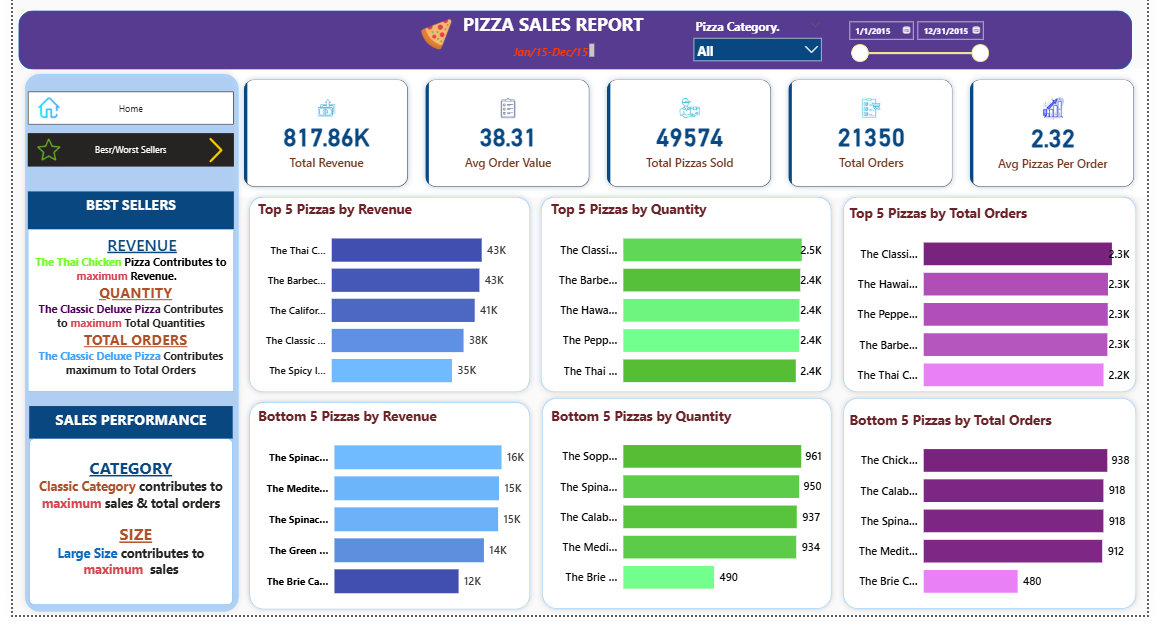

The dashboard page shown, as its layout file describes it:
{"tool":"powerbi","page":{"name":"Besr/Worst Sellers","canvas":[1680,915],"ordinal":1},"visuals":[{"type":"cardVisual","fields":{"Data":["pizza_db pizza_sales.Total Revenue","pizza_db pizza_sales.Avg Order Value","pizza_db pizza_sales.Total Pizzas Sold","pizza_db pizza_sales.Total Orders","pizza_db pizza_sales.Avg Pizzas Per Order"]},"box":[326.8,105.4,1353.6,191.1],"z":0},{"type":"shape","box":[8.9,19.6,1650,87.5],"z":1000},{"type":"textbox","box":[645,15,308.3,48.3],"z":2000},{"type":"textbox","box":[735,63.3,130,30],"z":3000},{"type":"image","box":[598.3,31.7,58.3,46.7],"z":4000},{"type":"shape","box":[342.9,287.5,432.1,305.4],"z":5000},{"type":"shape","box":[10.7,105.4,332.1,812.5],"z":6000},{"type":"textbox","box":[21.4,287.5,305.4,57.1],"z":7000},{"type":"textbox","box":[21.4,344.6,305.4,241.1],"z":8000},{"type":"textbox","box":[25,653.6,301.8,246.4],"z":9000},{"type":"textbox","box":[25,605.4,301.8,48.2],"z":10000},{"type":"slicer","fields":{"Values":["pizza_db pizza_sales.pizza_category"]},"box":[998.6,25,209.7,80.6],"z":11000},{"type":"slicer","fields":{"Values":["pizza_db pizza_sales.order_date"]},"box":[1226.4,25,227.8,80.6],"z":12000},{"type":"shape","box":[775,287.5,446.4,305.4],"z":13000},{"type":"shape","box":[1221.4,287.5,450,305.4],"z":14000},{"type":"shape","box":[342.9,591.1,432.1,323.2],"z":15000},{"type":"shape","box":[776.8,585.7,444.6,328.6],"z":16000},{"type":"shape","box":[1221.4,585.7,450,328.6],"z":17000},{"type":"barChart","title":"Top 5 Pizzas by Revenue","fields":{"Category":["pizza_db pizza_sales.pizza_name"],"Y":["pizza_db pizza_sales.Total Revenue"]},"box":[357.1,300,403.6,294.6],"z":18000},{"type":"barChart","title":"Bottom 5 Pizzas by Revenue","fields":{"Category":["pizza_db pizza_sales.pizza_name"],"Y":["pizza_db pizza_sales.Total Revenue"]},"box":[357.1,605.4,419.6,301.8],"z":19000},{"type":"barChart","title":"Top 5 Pizzas by Quantity","fields":{"Category":["pizza_db pizza_sales.pizza_name"],"Y":["pizza_db pizza_sales.Total Pizzas Sold"]},"box":[792.9,300,410.7,294.6],"z":20000},{"type":"barChart","title":"Bottom 5 Pizzas by Quantity","fields":{"Category":["pizza_db pizza_sales.pizza_name"],"Y":["pizza_db pizza_sales.Total Pizzas Sold"]},"box":[792.9,605.4,410.7,294.6],"z":21000},{"type":"barChart","title":"Top 5 Pizzas by Total Orders","fields":{"Category":["pizza_db pizza_sales.pizza_name"],"Y":["pizza_db pizza_sales.Total Orders"]},"box":[1233.9,305.4,425,294.6],"z":22000},{"type":"barChart","title":"Bottom 5 Pizzas by Total Orders","fields":{"Category":["pizza_db pizza_sales.pizza_name"],"Y":["pizza_db pizza_sales.Total Orders"]},"box":[1233.9,612.5,425,294.6],"z":23000},{"type":"pageNavigator","box":[21.4,201.8,305.4,50],"z":24000},{"type":"pageNavigator","box":[21.4,139.3,305.4,50],"z":25000},{"type":"image","box":[273.2,208.9,53.6,37.5],"z":26000},{"type":"image","box":[23,148,59,32],"z":27000},{"type":"image","box":[36,205,34,40],"z":28000}]}

Visuals, with their boxes in screenshot pixels (x1, y1, x2, y2), scaled from the page's 1680x915 canvas onto the 1161x624 screenshot:
cardVisual - pizza_db pizza_sales.Total Revenue x pizza_db pizza_sales.Avg Order Value: crop(226, 72, 1160, 202)
shape: crop(6, 13, 1146, 73)
textbox: crop(446, 10, 659, 43)
textbox: crop(508, 43, 598, 64)
image: crop(413, 22, 454, 53)
shape: crop(237, 196, 536, 404)
shape: crop(7, 72, 237, 623)
textbox: crop(15, 196, 226, 235)
textbox: crop(15, 235, 226, 399)
textbox: crop(17, 446, 226, 614)
textbox: crop(17, 413, 226, 446)
slicer - pizza_db pizza_sales.pizza_category: crop(690, 17, 835, 72)
slicer - pizza_db pizza_sales.order_date: crop(848, 17, 1005, 72)
shape: crop(536, 196, 844, 404)
shape: crop(844, 196, 1155, 404)
shape: crop(237, 403, 536, 623)
shape: crop(537, 399, 844, 623)
shape: crop(844, 399, 1155, 623)
"Top 5 Pizzas by Revenue" barChart: crop(247, 205, 526, 405)
"Bottom 5 Pizzas by Revenue" barChart: crop(247, 413, 537, 619)
"Top 5 Pizzas by Quantity" barChart: crop(548, 205, 832, 405)
"Bottom 5 Pizzas by Quantity" barChart: crop(548, 413, 832, 614)
"Top 5 Pizzas by Total Orders" barChart: crop(853, 208, 1146, 409)
"Bottom 5 Pizzas by Total Orders" barChart: crop(853, 418, 1146, 619)
pageNavigator: crop(15, 138, 226, 172)
pageNavigator: crop(15, 95, 226, 129)
image: crop(189, 142, 226, 168)
image: crop(16, 101, 57, 123)
image: crop(25, 140, 48, 167)
